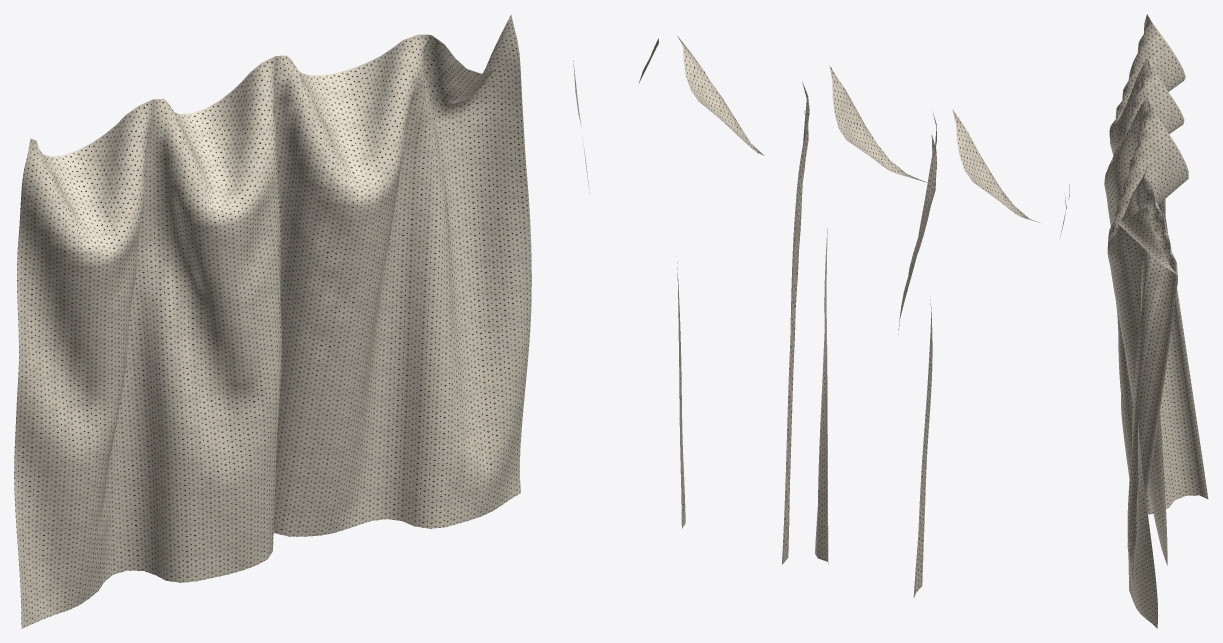
The model's file is cotton-jersey-v5.glb.
3 views of the same model, side by side, from view 1: azimuth 30°, elevation 25°; view 2: azimuth 150°, elevation 25°; view 3: azimuth 270°, elevation 25° (orthographic). The views are drawn at different scales.
Parts seen in each view (by area): view 1: SettledDrape_full; view 2: SettledDrape_full; view 3: SettledDrape_full.
Boxes of the visible parts, <box> form: SettledDrape_full: <box>14,14,531,628</box>; SettledDrape_full: <box>573,35,1069,597</box>; SettledDrape_full: <box>1104,14,1208,628</box>.
Bounding box in the file's own units: 10.94 × 10.48 × 2.28.
1 material, 1 textured.
